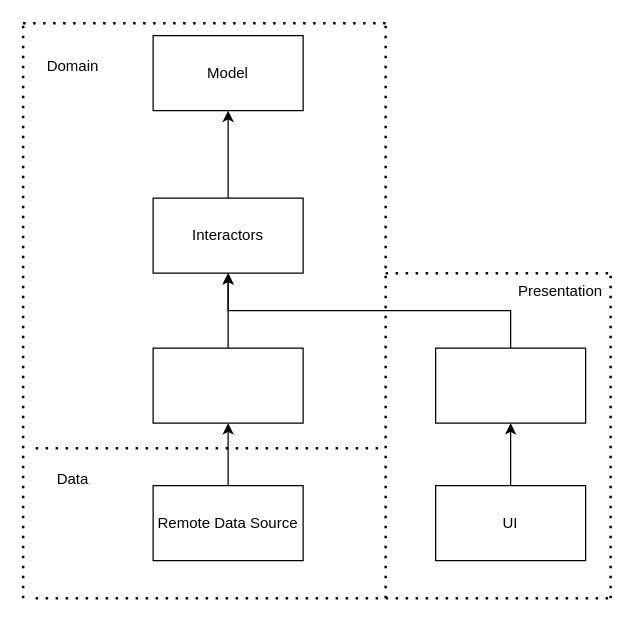
This 634x621 diagram has some shape labels left out. The shapes that lost their labels are listed below. From the top down, each one's centre as x and y in pixels, then its label:
At point (227, 385): "Repository".
At point (510, 385): "ViewModel".
